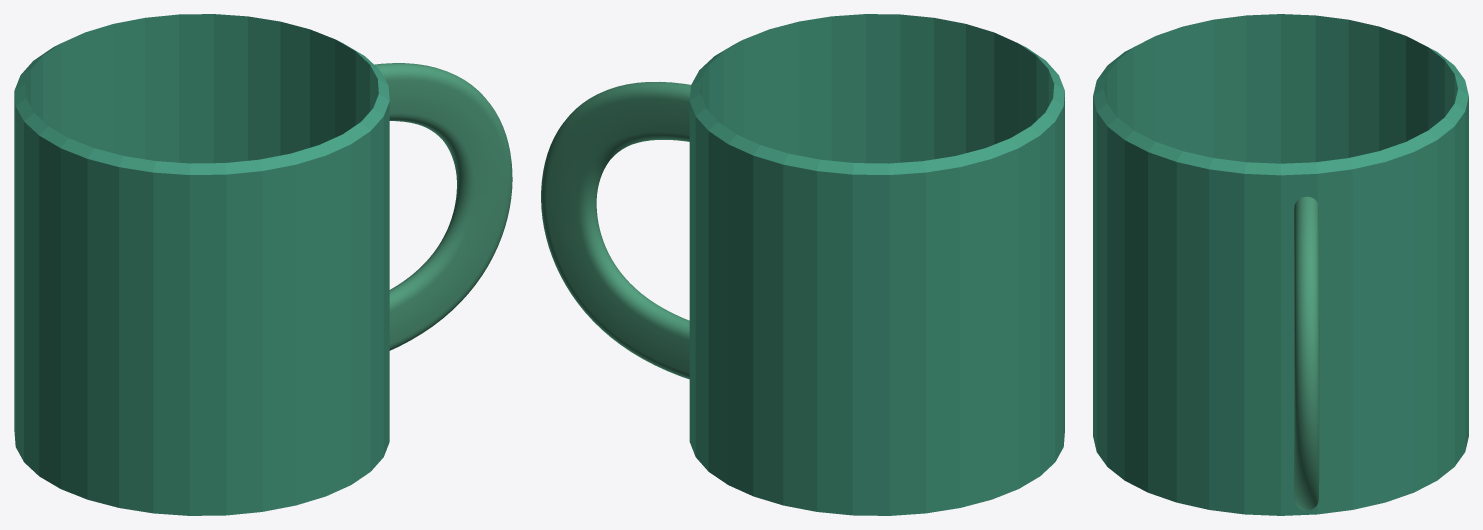
The model's file is MugGreen.fbx.
3 views of the same model, side by side, from view 1: azimuth 30°, elevation 25°; view 2: azimuth 150°, elevation 25°; view 3: azimuth 270°, elevation 25° (orthographic).
Parts seen in each view (by area): view 1: MugGreen; view 2: MugGreen; view 3: MugGreen.
Boxes of the visible parts, x1,y1,x2,y2 form: MugGreen: (14, 14, 512, 515); MugGreen: (541, 14, 1064, 515); MugGreen: (1093, 14, 1468, 515).
Bounding box in the file's own units: 24.47 × 16.45 × 16.79.
